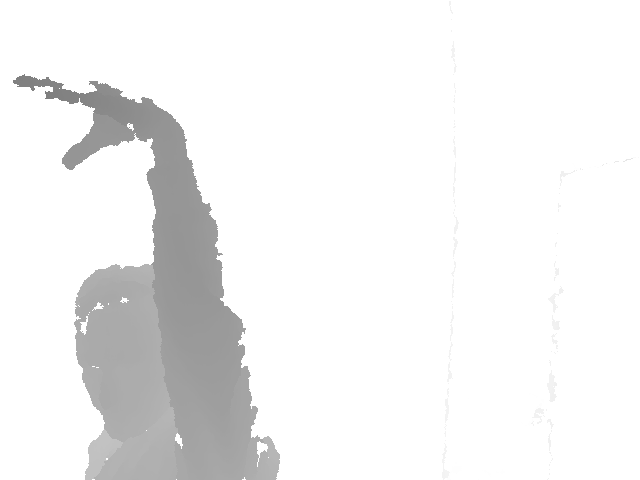hand: (12, 74, 188, 171)
head: (74, 262, 181, 441)
person: (12, 74, 282, 480)
